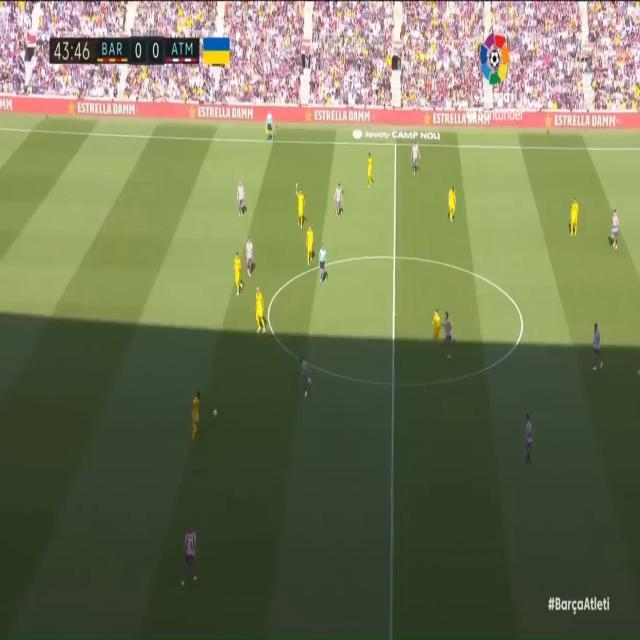ball: (211, 407, 220, 420)
player: (177, 522, 200, 593), (185, 386, 204, 445), (295, 354, 314, 400), (251, 286, 267, 338), (591, 319, 604, 377), (441, 310, 454, 363), (523, 409, 534, 470), (243, 236, 257, 280), (232, 250, 244, 299), (430, 305, 442, 354), (294, 178, 305, 230), (305, 222, 317, 267), (446, 181, 458, 226), (609, 207, 621, 251), (409, 138, 422, 178), (569, 193, 580, 239), (365, 149, 375, 191), (236, 178, 246, 219), (333, 180, 343, 219)
referee: (317, 242, 329, 285), (265, 108, 276, 144)
